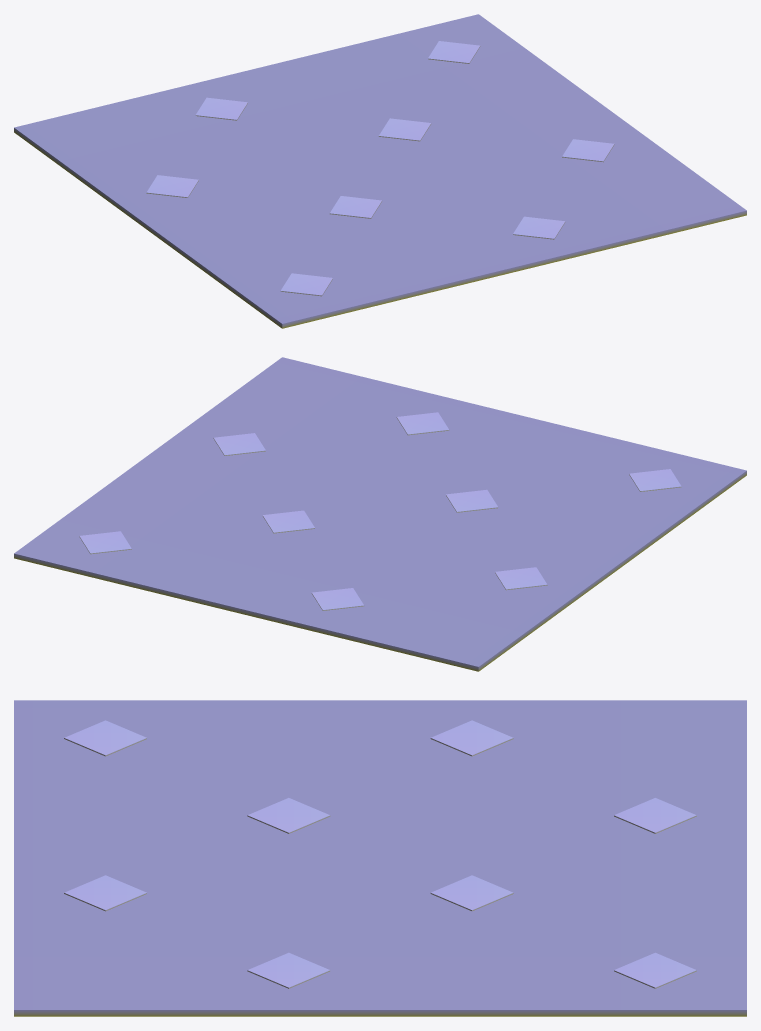
File: env_floor_carpet.glb
The picture shows the model from 3 angles, top to bottom: view 1: azimuth 30°, elevation 25°; view 2: azimuth 150°, elevation 25°; view 3: azimuth 270°, elevation 25°; orthographic projection. The views are drawn at different scales.
Parts seen in each view (by area): view 1: env_floor_carpet_mesh; view 2: env_floor_carpet_mesh; view 3: env_floor_carpet_mesh.
Boxes of the visible parts, left/top/right/bottom form: env_floor_carpet_mesh: left=14, top=14, right=746, bottom=328; env_floor_carpet_mesh: left=14, top=357, right=746, bottom=671; env_floor_carpet_mesh: left=14, top=700, right=746, bottom=1016.
Size of the model in its own units: 2 by 0.0235 by 2.
